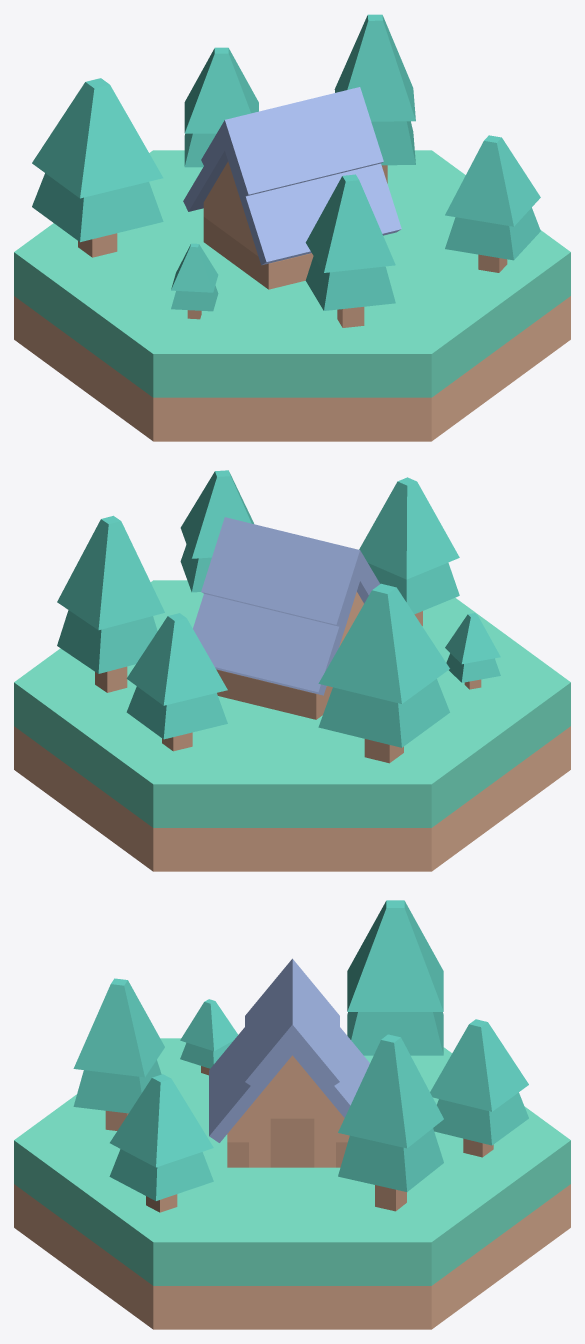
The model's file is building_lumberjack.fbx.
3 views of the same model, one above another, from view 1: azimuth 30°, elevation 25°; view 2: azimuth 150°, elevation 25°; view 3: azimuth 270°, elevation 25° (orthographic).
Visible parts, largest first — view 1: building_house, building, tree.001, tree.003, tree.002, tree.004, tree, tree.005; view 2: building_house, building, tree.001, tree.004, tree, tree.003, tree.002, tree.005; view 3: building_house, building, tree.004, tree.001, tree.002, tree, tree.003, tree.005.
Boxes of the visible parts, x1,y1,x2,y2 form: building_house: [14, 150, 570, 441]; building: [183, 87, 401, 289]; tree.001: [32, 78, 163, 257]; tree.003: [305, 174, 395, 327]; tree.002: [445, 135, 540, 272]; tree.004: [334, 14, 415, 183]; tree: [184, 47, 258, 167]; tree.005: [171, 243, 218, 319]; building_house: [14, 580, 570, 871]; building: [193, 517, 379, 719]; tree.001: [318, 583, 449, 763]; tree.004: [57, 515, 164, 692]; tree: [126, 613, 227, 751]; tree.003: [359, 477, 459, 626]; tree.002: [180, 470, 253, 592]; tree.005: [445, 613, 500, 689]; building_house: [14, 1038, 570, 1329]; building: [209, 958, 369, 1167]; tree.004: [338, 1034, 443, 1211]; tree.001: [347, 900, 443, 1055]; tree.002: [109, 1074, 213, 1212]; tree: [430, 1019, 528, 1157]; tree.003: [73, 978, 164, 1130]; tree.005: [180, 999, 237, 1075].
Bounding box in the file's own units: 10 × 5.8 × 11.55.
